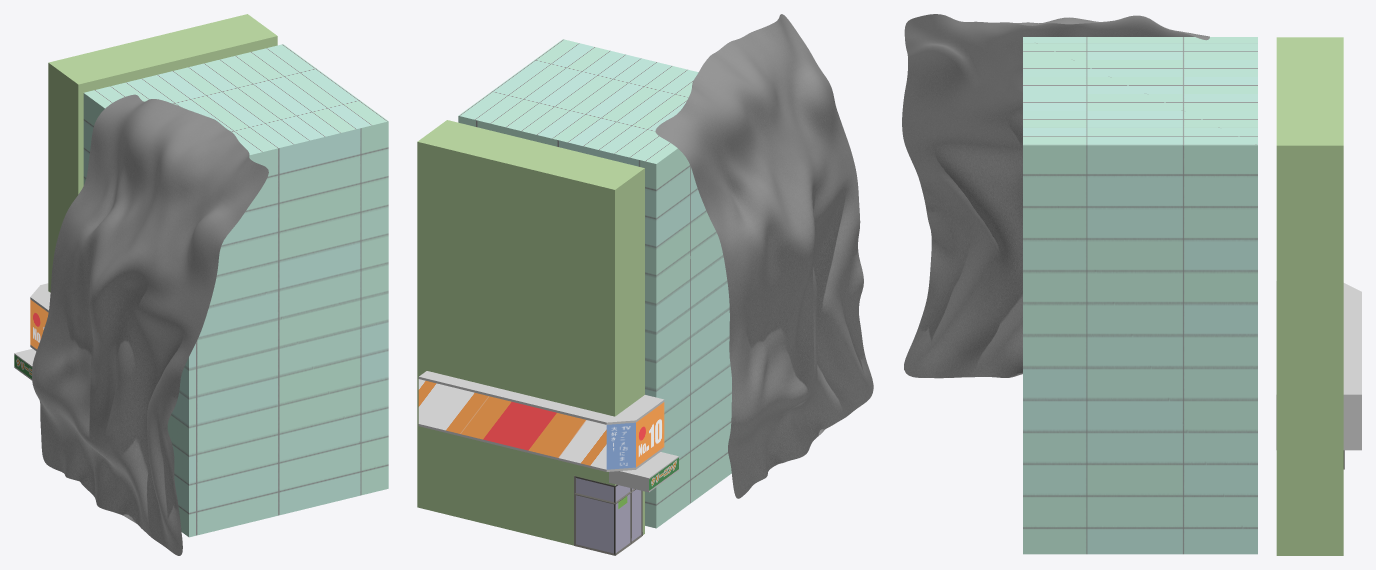
Rendered from city_kurin.glb.
3 renders of one model, left to right at view 1: azimuth 30°, elevation 25°; view 2: azimuth 150°, elevation 25°; view 3: azimuth 270°, elevation 25°, orthographic. The views are drawn at different scales.
Visible parts, largest first — view 1: Cube.005, Plane.001, Cube, Cube.001, Cube.004; view 2: Cube, Plane.001, Cube.005, Cube.001, Cube.002, Cube.004, Cube.003; view 3: Cube.005, Plane.001, Cube, Cube.001.
Boxes of the visible parts, x1,y1,x2,y2 form: Cube.005: (83,44,388,537); Plane.001: (32,94,268,555); Cube: (48,14,277,292); Cube.001: (30,283,50,351); Cube.004: (14,348,36,380); Cube: (417,120,644,545); Plane.001: (655,14,873,498); Cube.005: (458,39,731,528); Cube.001: (418,371,664,471); Cube.002: (576,478,641,553); Cube.004: (609,452,678,492); Cube.003: (574,476,642,555); Cube.005: (1023,37,1257,554); Plane.001: (902,14,1209,378); Cube: (1276,37,1343,555); Cube.001: (1276,281,1361,450).
Size of the model in its own units: 56.12 by 77.3 by 72.42.
Materials: 11 (5 with a texture image).
